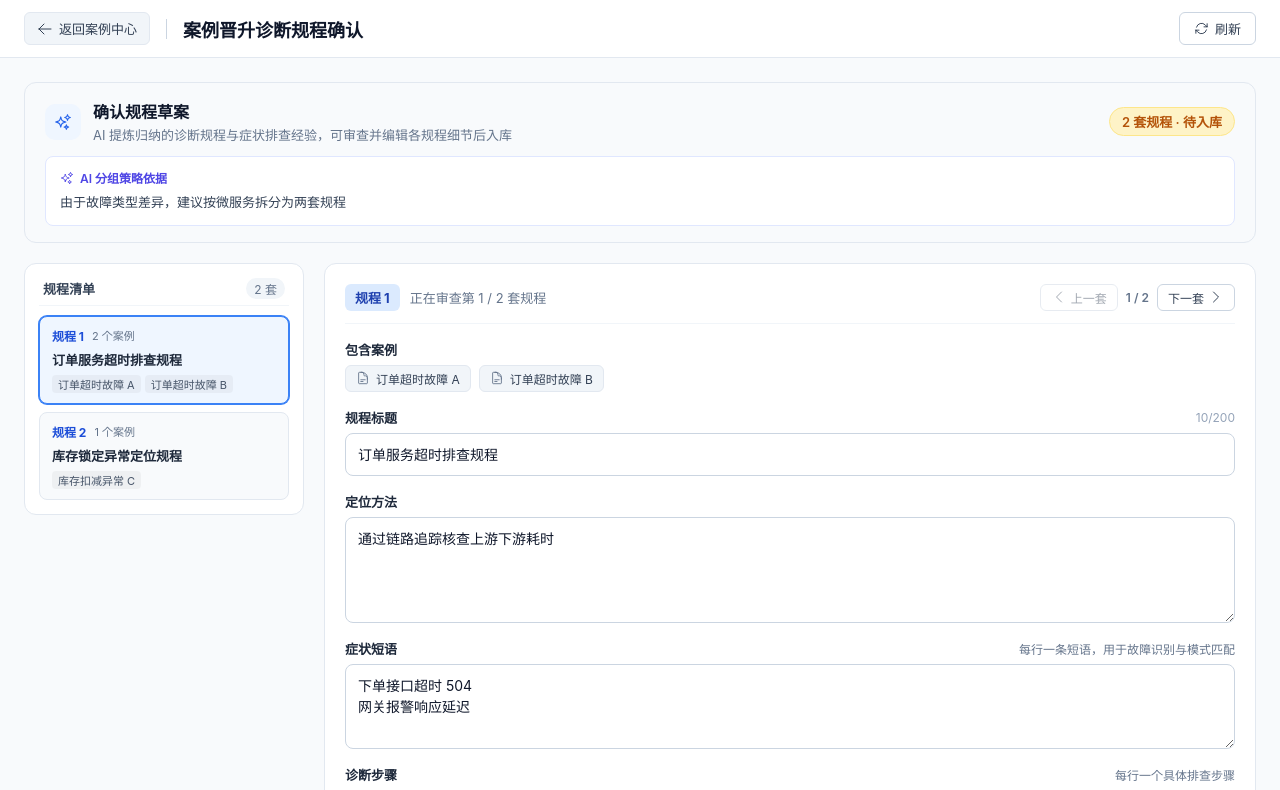
CasePromotionReviewView.vue › loads job draft and renders master-detail layout (not waterfall)
Expected: the tab "规程 1 2 个案例 订单服务超时排查规程 订单超时故障 A 订单超时故障 B" is shown, [39,316,289,404]
Expected: the text with class "detail-badge" reads "规程 1", [355,290,390,306]
# 点击左侧第二个规程卡片进行切换
Click the tab "规程 2 1 个案例 库存锁定异常定位规程 库存扣减异常 C" at {"x": 164, "y": 456}, box [39,412,289,500]
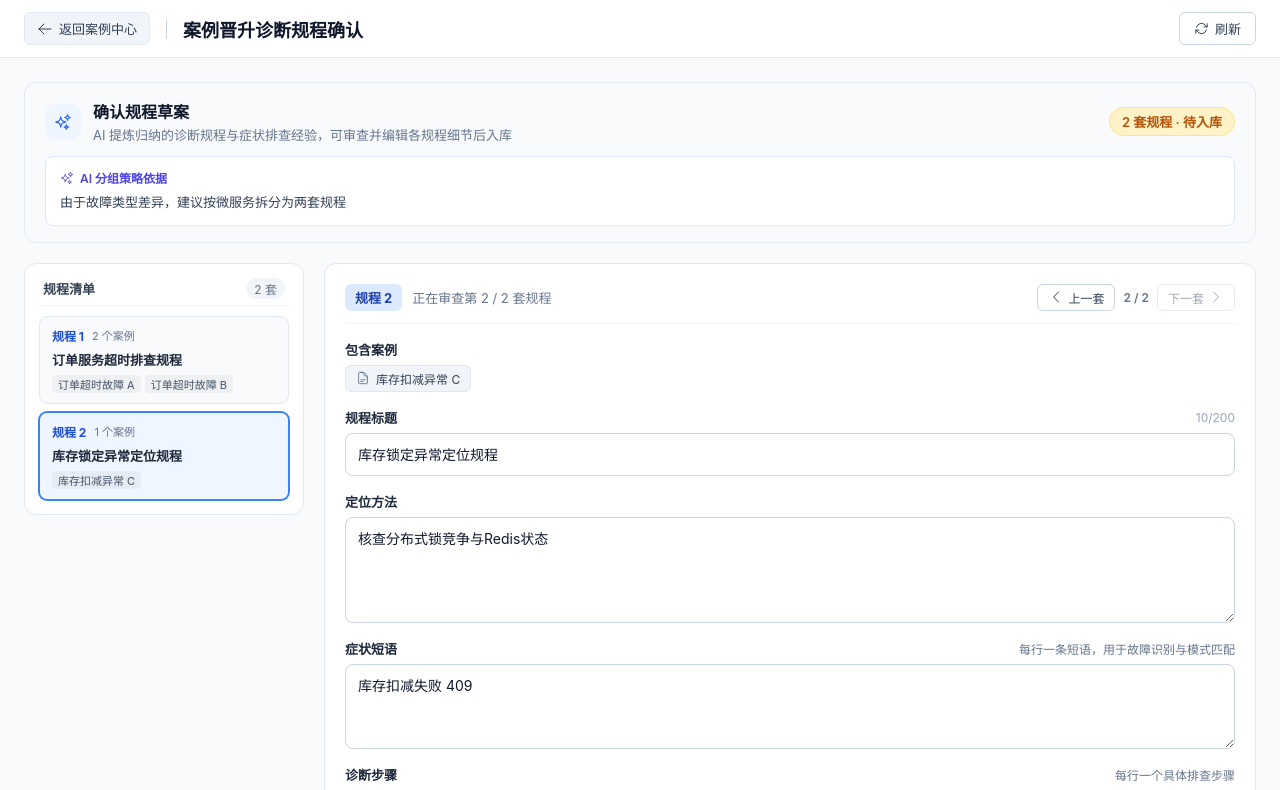
Result: the text with class "detail-badge" reads "规程 2" at [355,290,392,306]
Result: the field with class "form-input" holds "库存锁定异常定位规程" at [345,433,1235,476]
